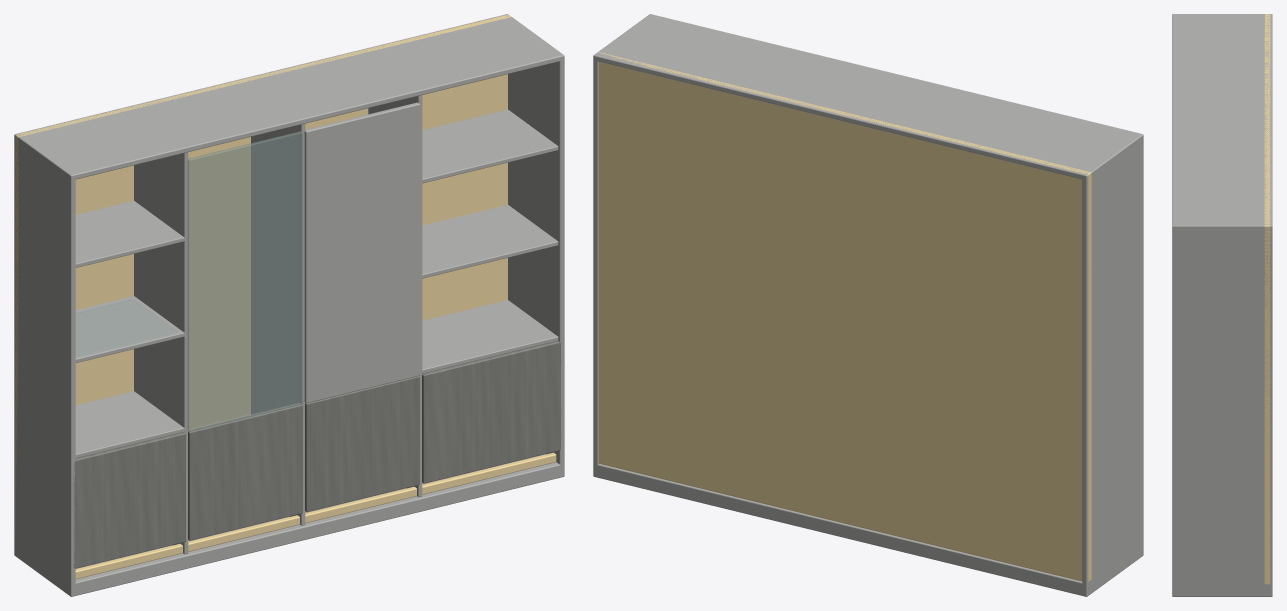
The model's file is kiyim-shkafi-grand.glb.
The picture shows the model from 3 angles, left to right: view 1: azimuth 30°, elevation 25°; view 2: azimuth 150°, elevation 25°; view 3: azimuth 270°, elevation 25°; orthographic projection. The views are drawn at different scales.
Visible parts, largest first — view 1: furniture; view 2: furniture; view 3: furniture.
Part boxes in pixels (x1,y1,x2,y2): furniture: (14, 14, 564, 596); furniture: (593, 14, 1143, 596); furniture: (1172, 14, 1272, 596).
Size of the model in its own units: 1.9 by 1.55 by 0.38.
4 materials, 1 textured.
